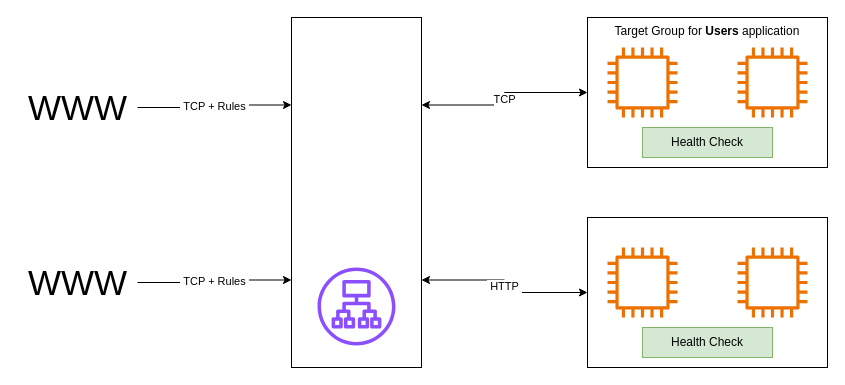
The diagram is 845 pixels wide and 385 high, and some of its shapes have lost their labels. Here are the shapes that lost their labels. From the top down, the box of each, then its label:
(290, 16, 422, 368): External Network Load Balancer (v2)
(586, 216, 828, 368): Target Group for Search application
